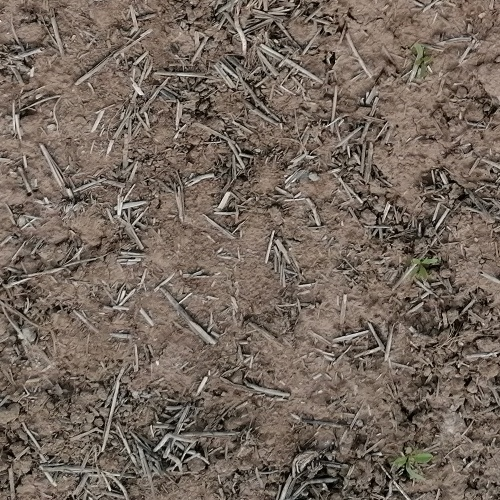beet: (415, 44, 431, 79), (414, 258, 439, 279), (394, 454, 434, 467)
